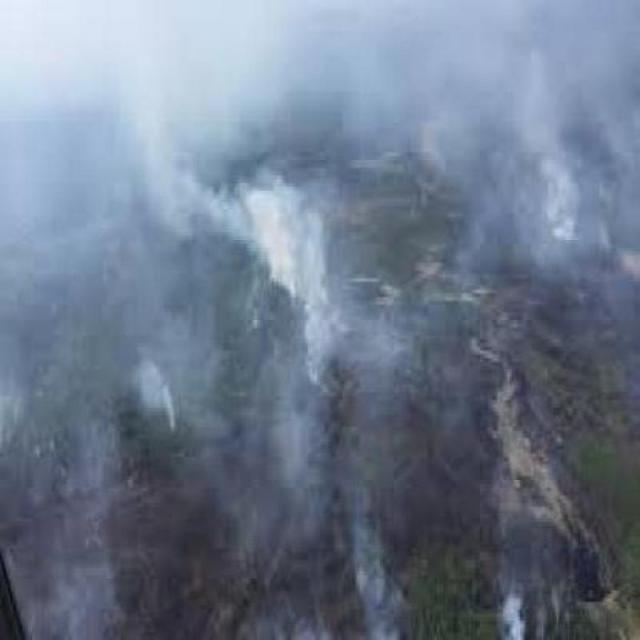Smoke: (238, 132, 352, 396), (514, 113, 612, 284), (128, 290, 190, 448)
